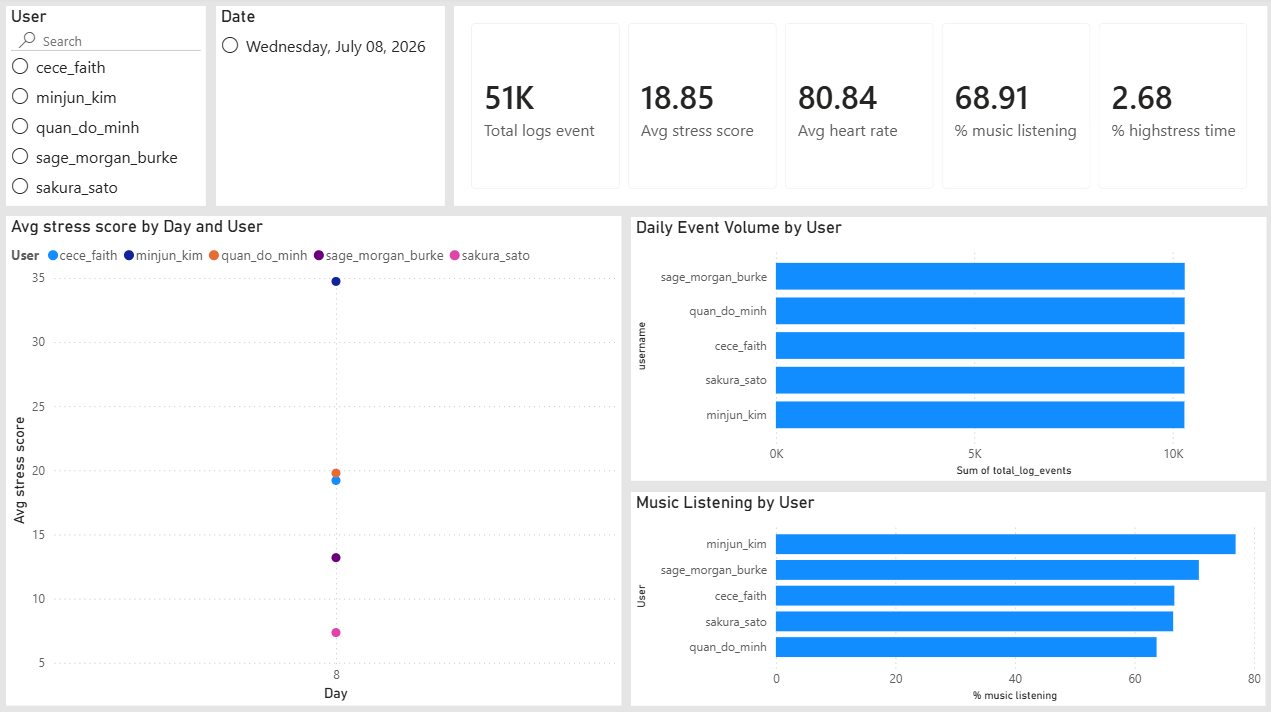

This screenshot's page, from the dashboard's own definition file:
{"tool":"powerbi","page":{"name":"Page 2","canvas":[1280,720],"ordinal":1},"visuals":[{"type":"listSlicer","fields":{"Values":["gold_daily_user_metrics.username"]},"box":[9.5,9.5,200.1,200.1],"z":0},{"type":"listSlicer","fields":{"Values":["gold_daily_user_metrics.date_day"]},"box":[219,9.5,228.5,200.1],"z":1000},{"type":"cardVisual","fields":{"Data":["Sum(gold_daily_user_metrics.total_log_events)","Avg(gold_daily_user_metrics.avg_stress_score)","Avg(gold_daily_user_metrics.avg_heart_rate)","Avg(gold_daily_user_metrics.music_listening_percentage)","Avg(gold_daily_user_metrics.high_stress_time_percentage)"]},"box":[457,9.5,813.5,200.1],"z":2000},{"type":"lineChart","fields":{"Category":["gold_daily_user_metrics.date_day.Variation.Date Hierarchy.Day"],"Y":["Sum(gold_daily_user_metrics.avg_stress_score)"],"Series":["gold_daily_user_metrics.username"]},"box":[9,219.2,616.5,490.4],"z":3000},{"type":"clusteredBarChart","title":"Daily Event Volume by User","fields":{"Category":["gold_daily_user_metrics.username"],"Y":["Sum(gold_daily_user_metrics.total_log_events)"]},"box":[634.5,220.2,636.5,264.2],"z":3001},{"type":"clusteredBarChart","title":"Music Listening by User","fields":{"Category":["gold_daily_user_metrics.username"],"Y":["Avg(gold_daily_user_metrics.music_listening_percentage)"]},"box":[634.5,495.4,635.5,214.2],"z":3002}]}

Visuals, with their boxes in screenshot pixels (x1, y1, x2, y2), scaled from the page's 1280x720 canvas onto the 1271x712 screenshot:
listSlicer - gold_daily_user_metrics.username: <bbox>9, 9, 208, 207</bbox>
listSlicer - gold_daily_user_metrics.date_day: <bbox>217, 9, 444, 207</bbox>
cardVisual - Sum(gold_daily_user_metrics.total_log_events) x Avg(gold_daily_user_metrics.avg_stress_score): <bbox>454, 9, 1262, 207</bbox>
lineChart - gold_daily_user_metrics.date_day.Variation.Date Hierarchy.Day x Sum(gold_daily_user_metrics.avg_stress_score): <bbox>9, 217, 621, 702</bbox>
"Daily Event Volume by User" clusteredBarChart: <bbox>630, 218, 1262, 479</bbox>
"Music Listening by User" clusteredBarChart: <bbox>630, 490, 1261, 702</bbox>
